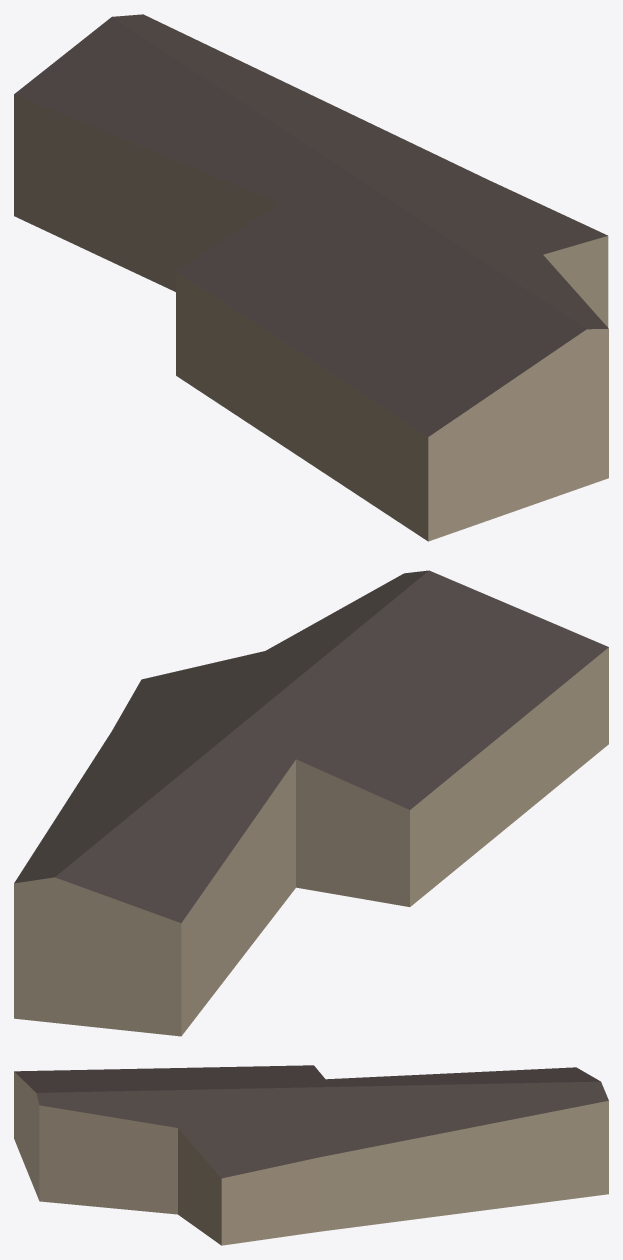
The picture shows the model from 3 angles, top to bottom: view 1: azimuth 30°, elevation 25°; view 2: azimuth 150°, elevation 25°; view 3: azimuth 270°, elevation 25°; orthographic projection. The views are drawn at different scales.
Parts seen in each view (by area): view 1: HP-w389702030; view 2: HP-w389702030; view 3: HP-w389702030.
Part boxes in pixels (x1,y1,x2,y2): HP-w389702030: (14, 14, 608, 541); HP-w389702030: (14, 570, 608, 1036); HP-w389702030: (14, 1065, 608, 1245).
Bounding box in the file's own units: 21.68 × 9 × 48.14.
